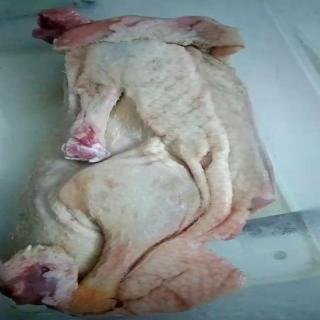Ayam: (1, 7, 279, 320)
